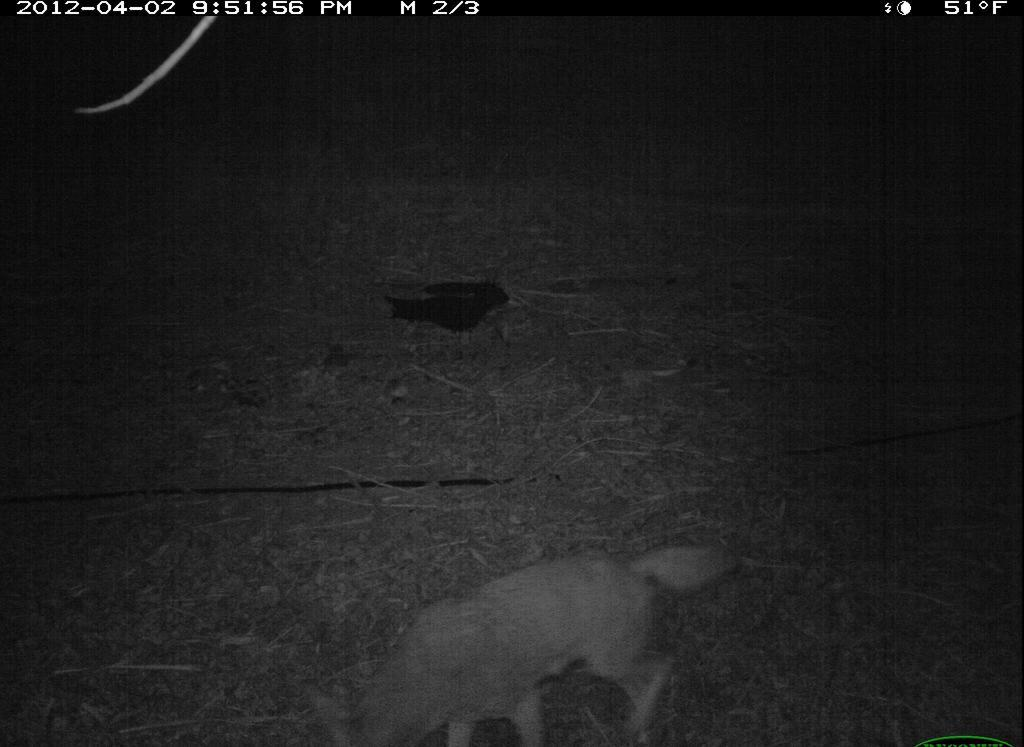coyote: (309, 527, 754, 747)
